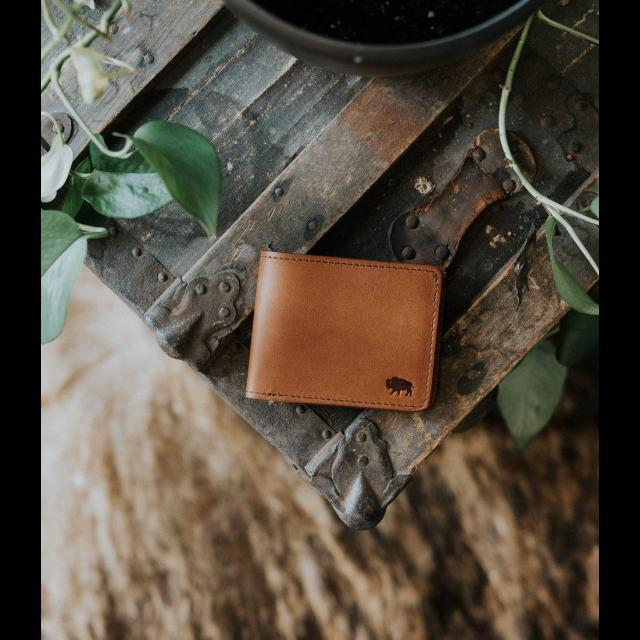wallet: (240, 247, 440, 419)
